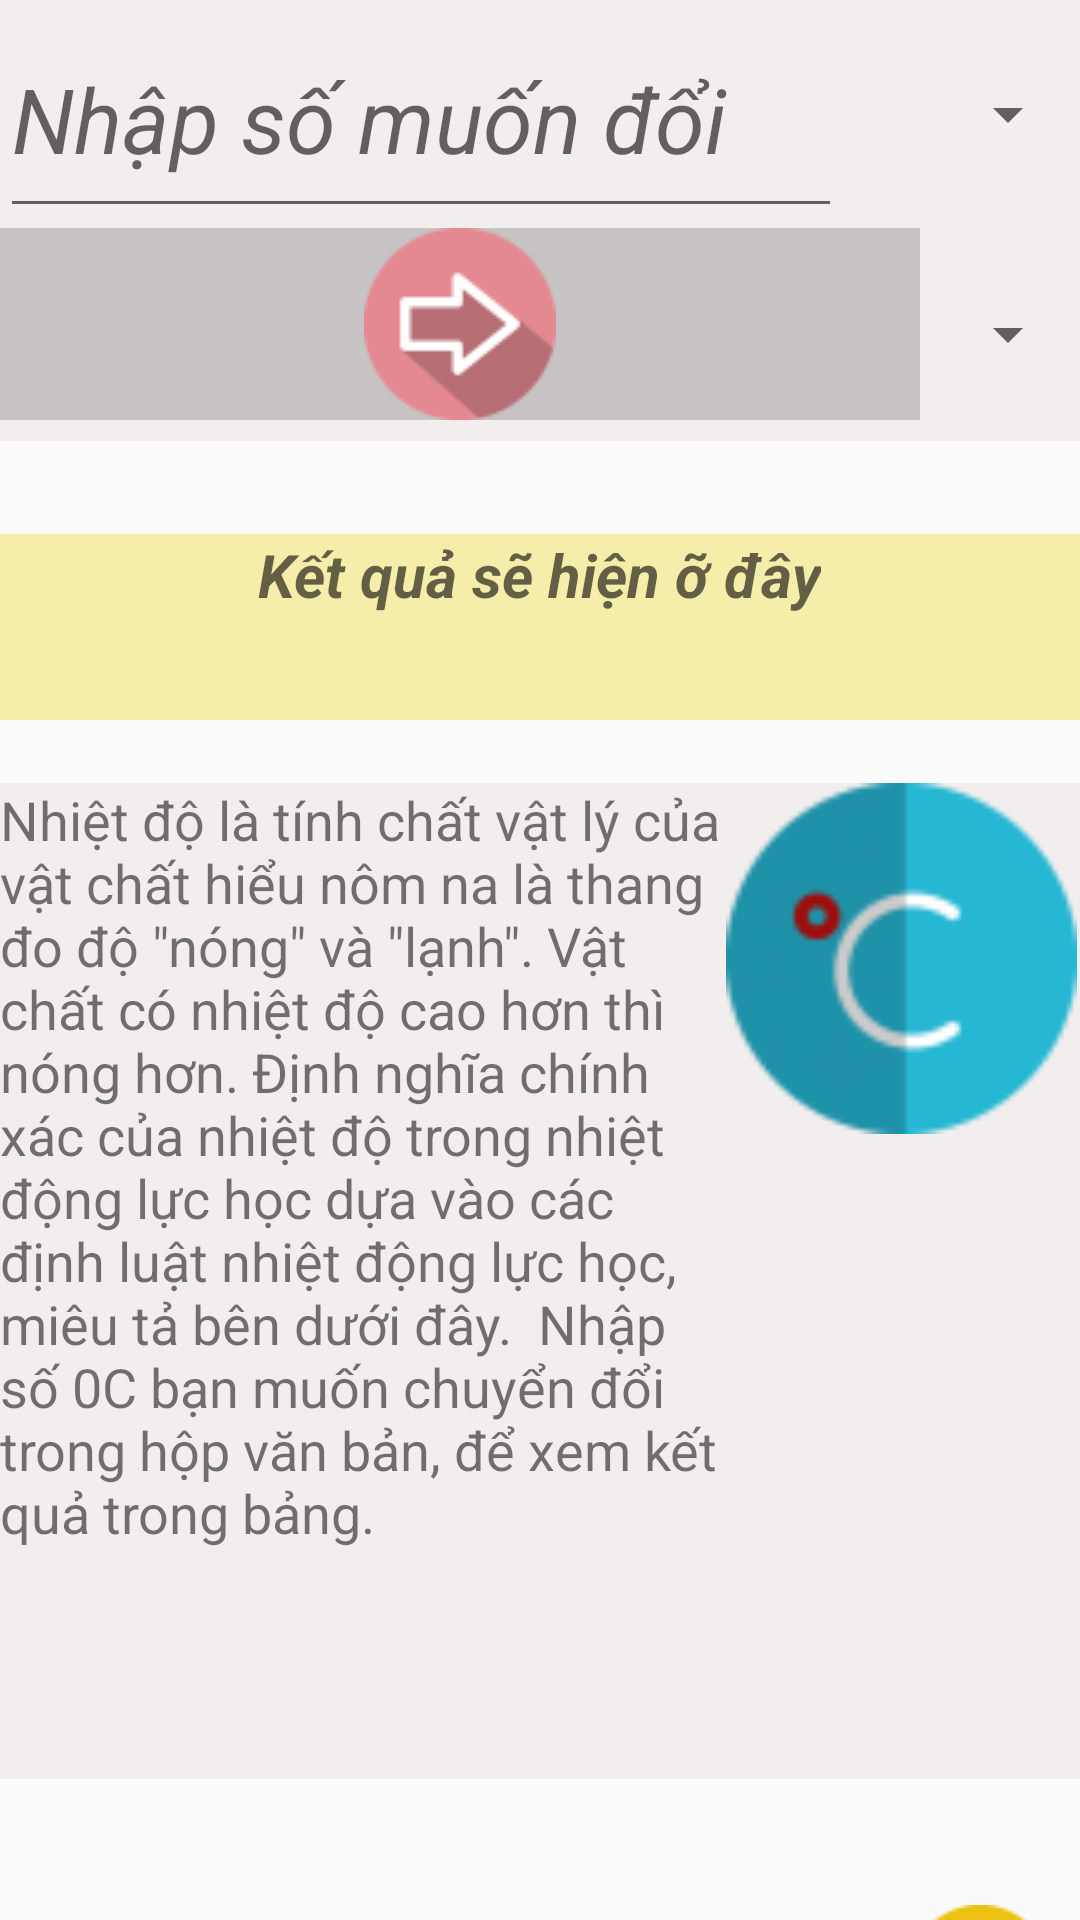

Where to tap for icons on this 1080*1920 app screen, as (x,y):
temperatureicon: (901,958)
